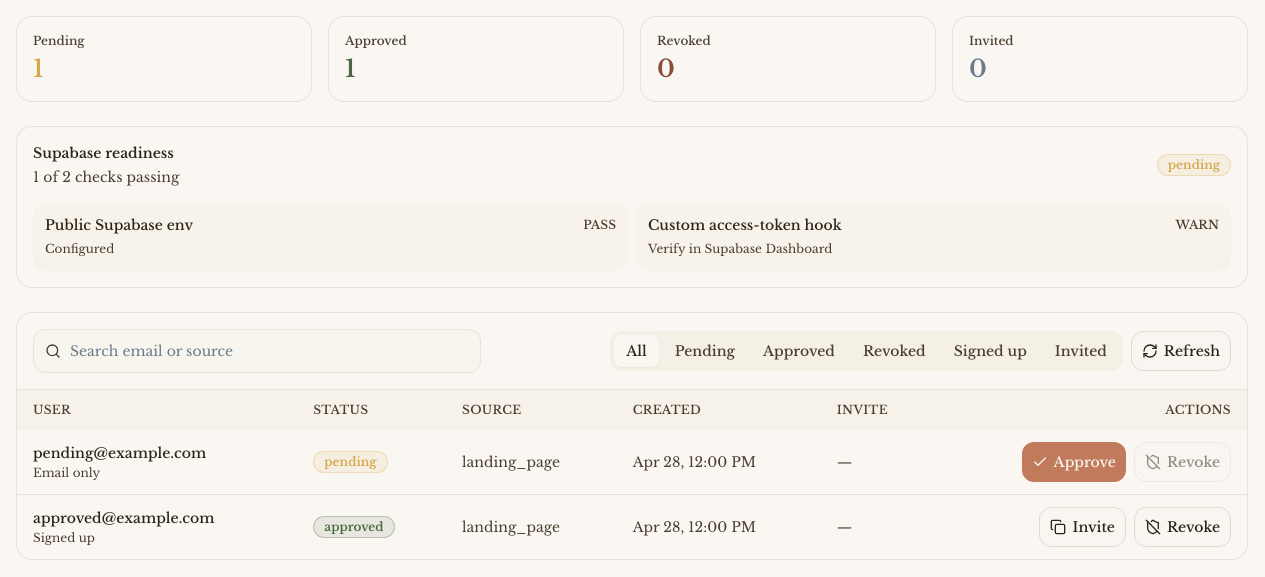
BetaAccessControlCenter › filters rows by search text
Check: the text "pending@example.com" is shown, box left=33, top=444, right=206, bottom=462
Type "approved" into the field named "Search beta users".
click(257, 351); type("approved")  # box left=33, top=329, right=481, bottom=373
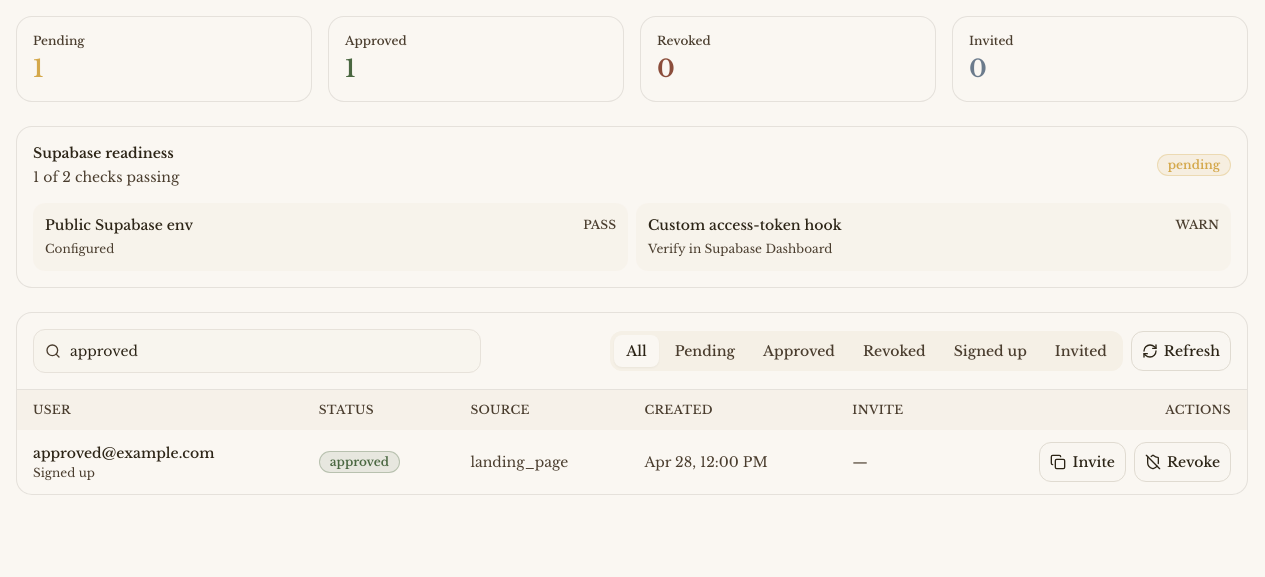
Check: the text "approved@example.com" is shown, box left=33, top=444, right=214, bottom=462
Check: the text "pending@example.com" is gone
